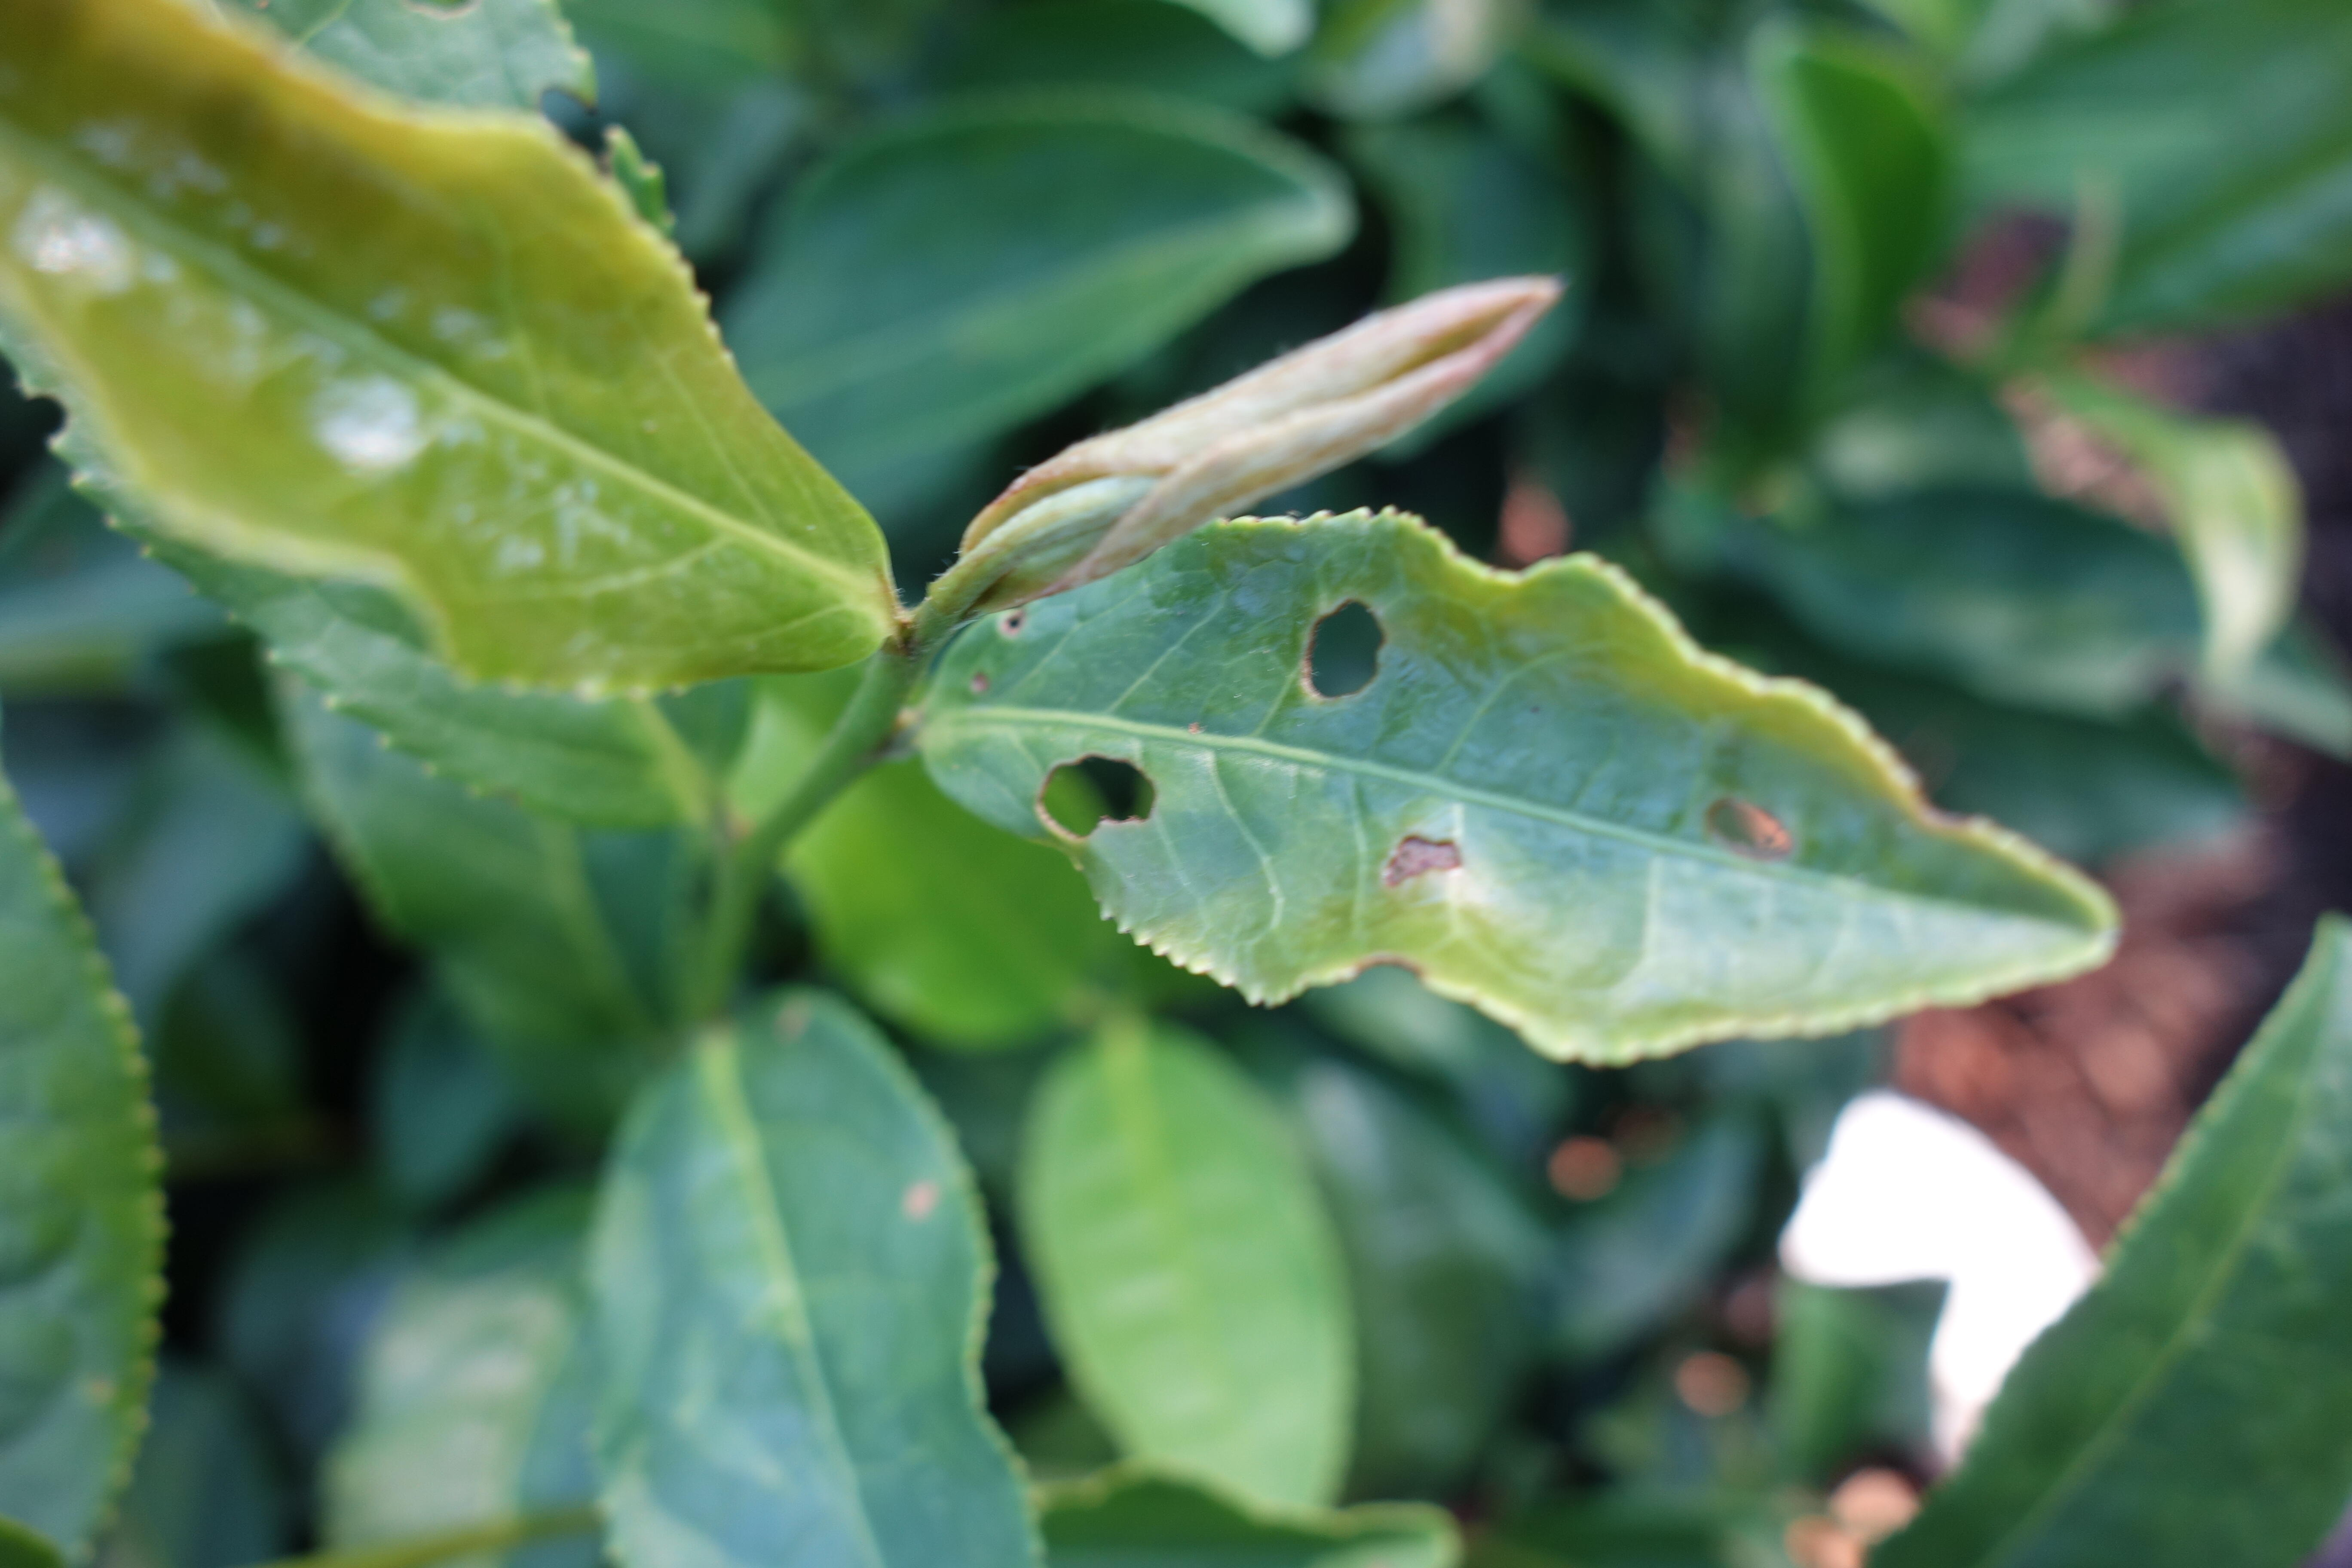chihuo_high: (915, 507, 2116, 1073)
healthy: (3, 5, 905, 698)
tanju_low: (954, 269, 1564, 600)
